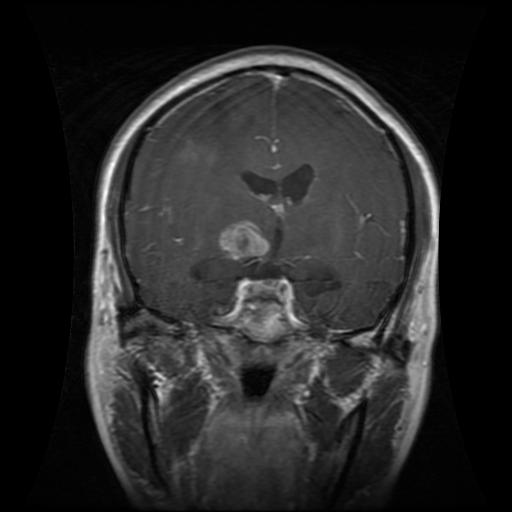Gliomia_tumour: (213, 217, 268, 264)
